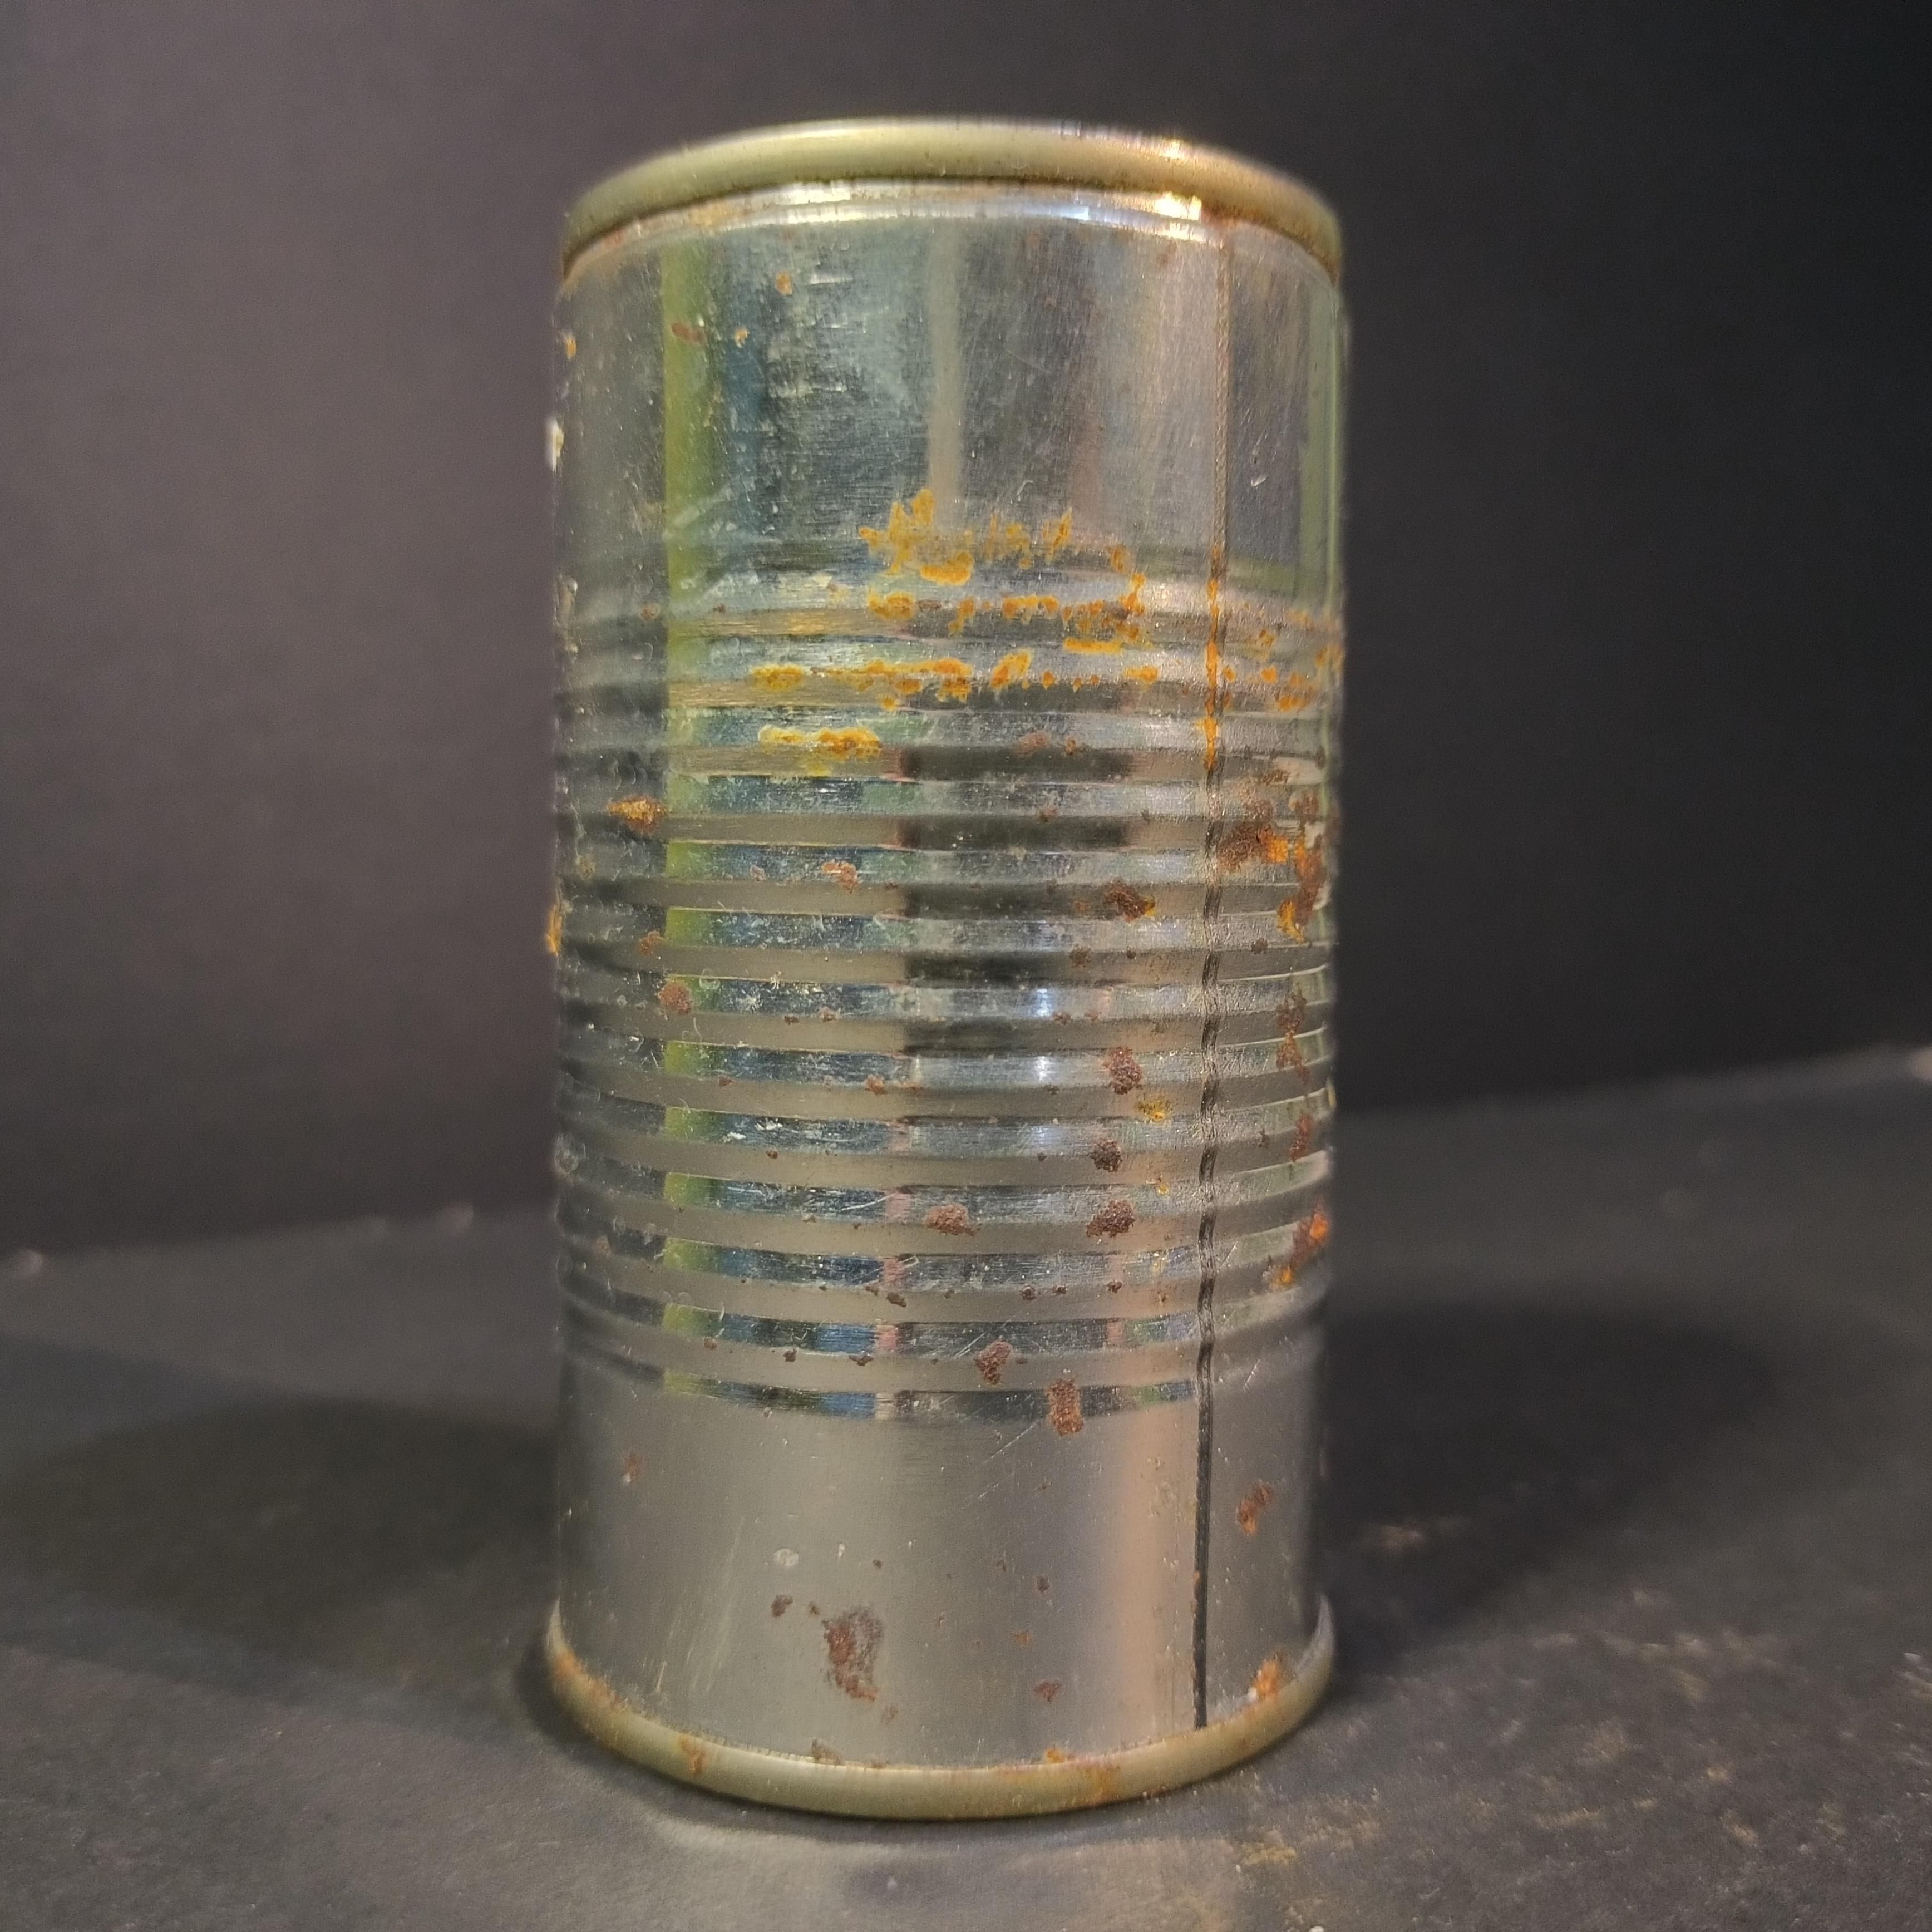Rusted: (506, 83, 1369, 1845)
